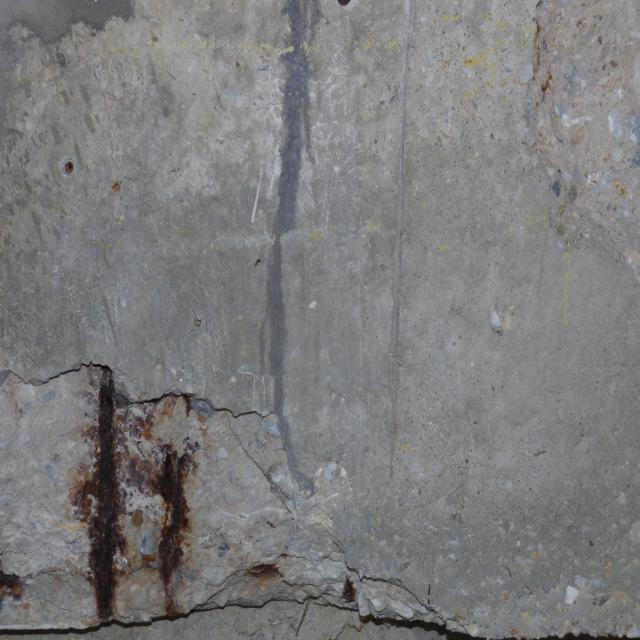corrosion: (64, 363, 194, 633), (0, 552, 38, 610), (242, 553, 287, 589), (337, 571, 365, 607)
